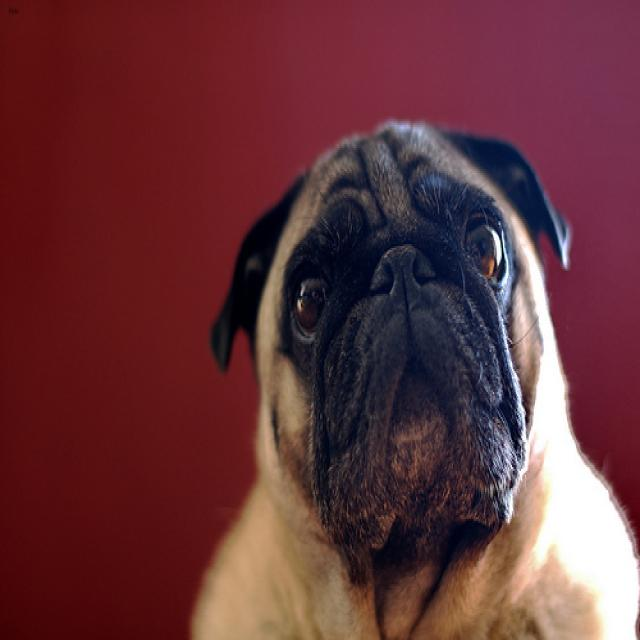dog-pug: (178, 113, 637, 636)
